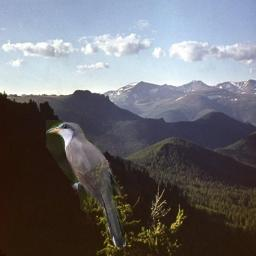Cuckoo: (46, 120, 129, 251)
